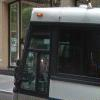Bus: (14, 4, 100, 100)
